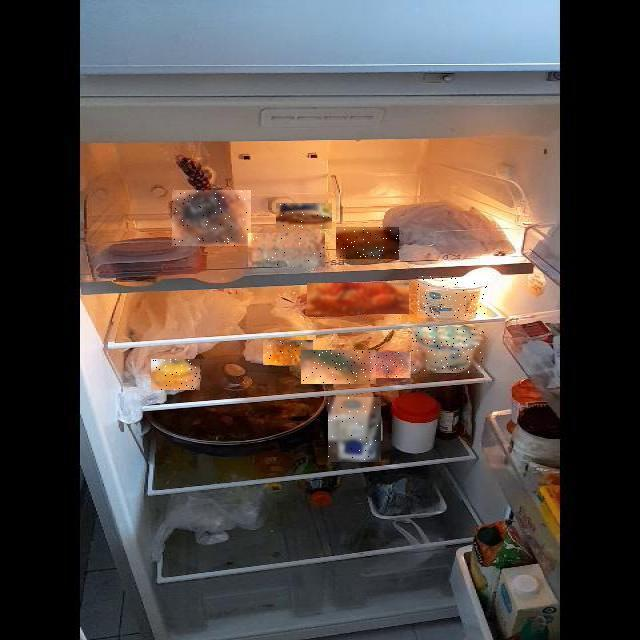Bread: (172, 190, 251, 246)
Butter: (336, 227, 399, 259)
Carrot: (307, 283, 409, 314)
Cheese: (248, 233, 325, 267)
Chillies: (302, 350, 378, 384)
Lemon: (151, 359, 200, 390), (263, 340, 313, 365)
Milk: (328, 397, 381, 462)
Tomato Paste: (374, 352, 414, 378)
Yoghurt: (412, 327, 484, 373), (417, 276, 487, 318), (276, 203, 332, 229)
